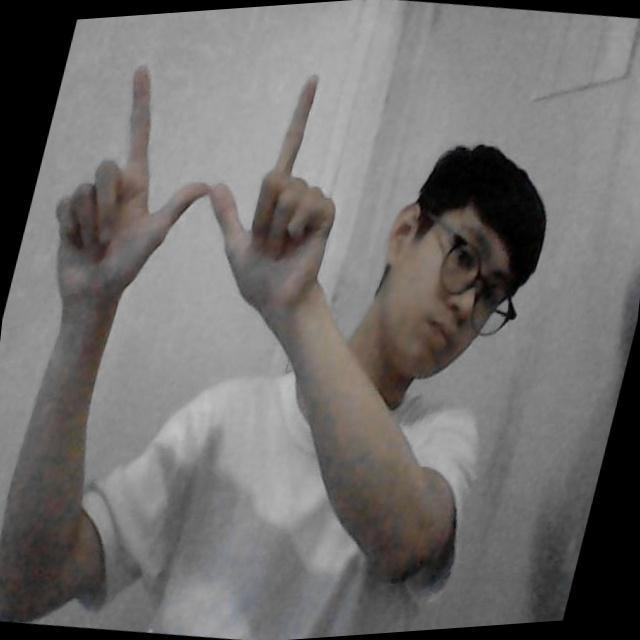W: (45, 49, 348, 318)
